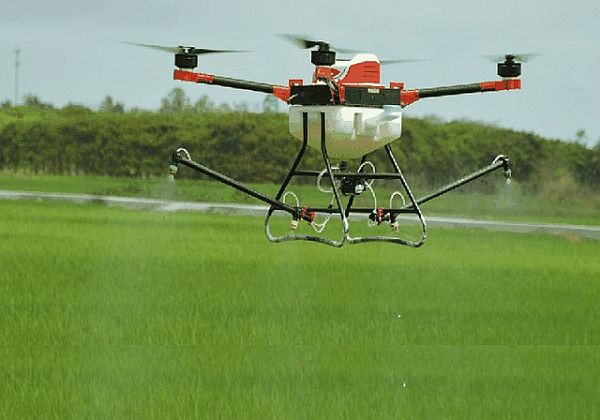maybay_khongnguoilai: (151, 31, 528, 241)
